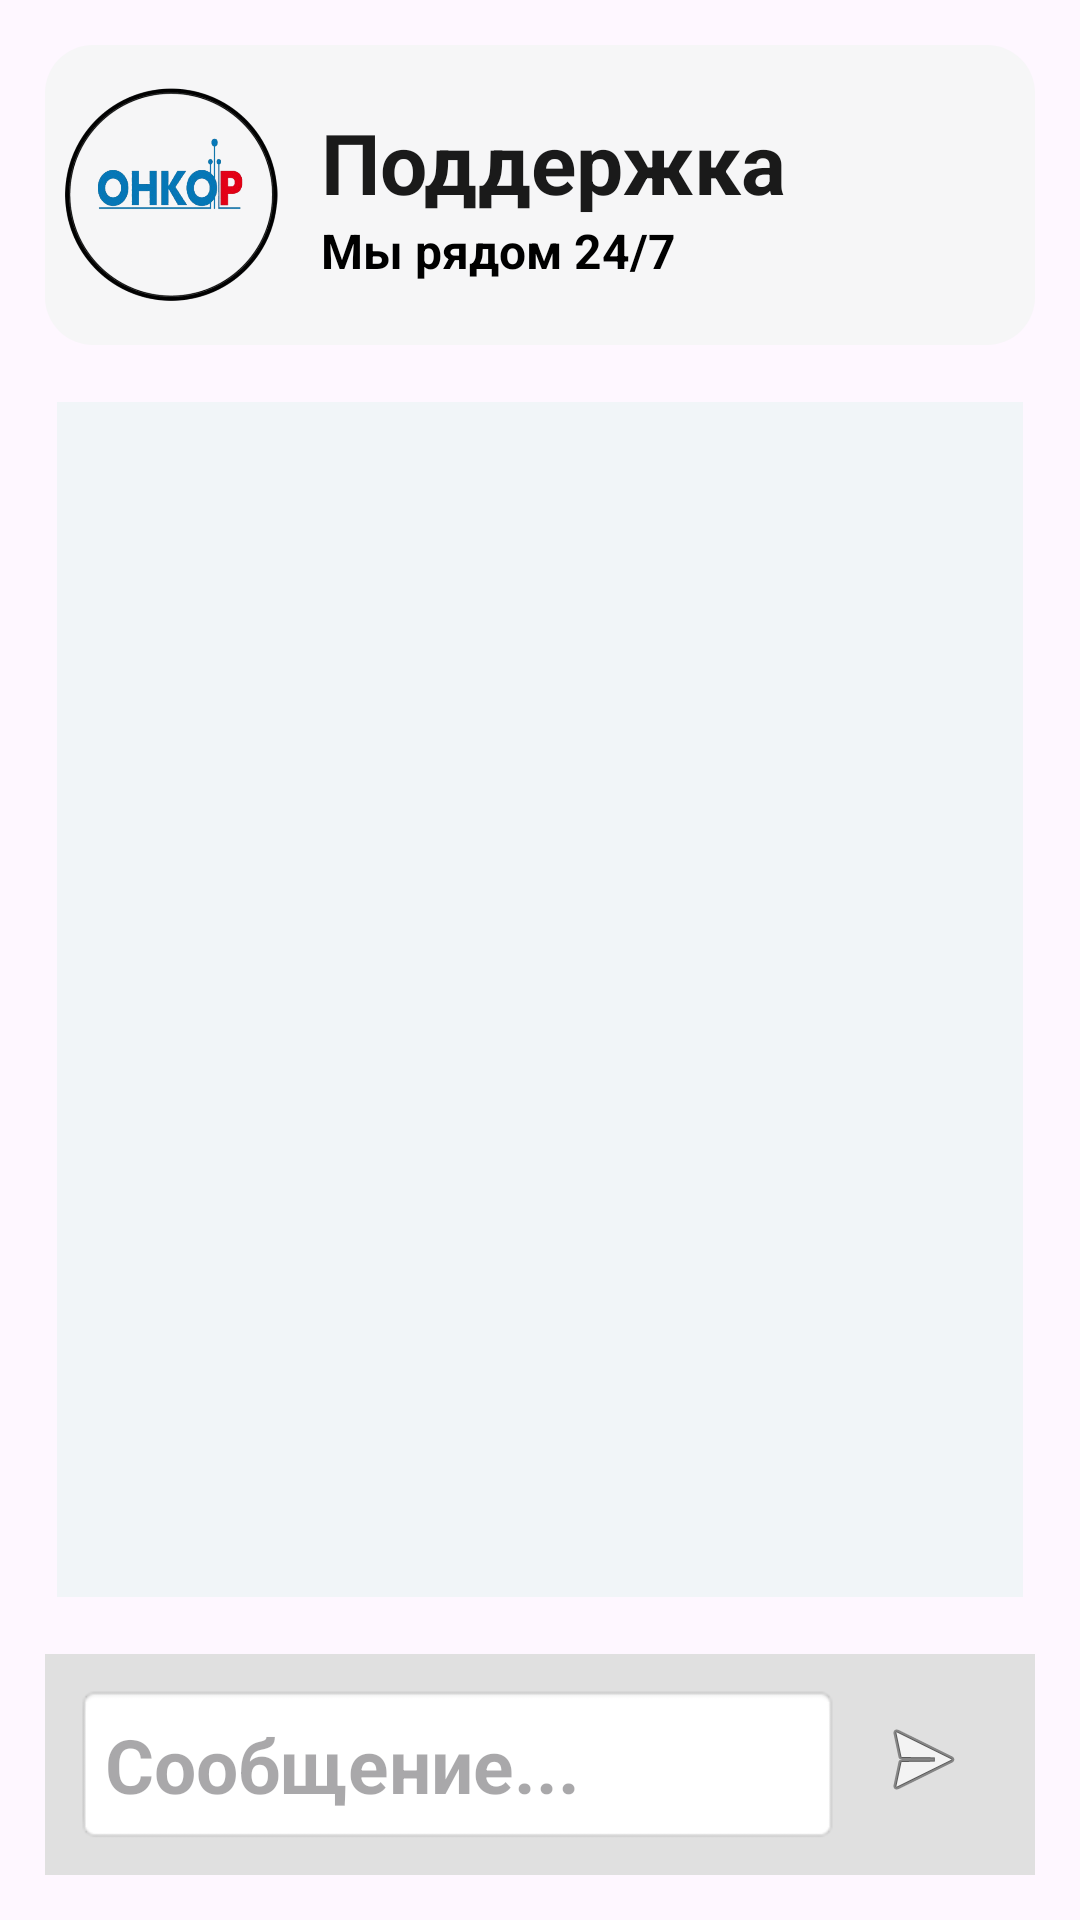

Icon bounding boxes for this 1080px x 1920px phone screenshot, format {"left": x1, "top": y1, "right": x2, "bottom": y2}:
send: {"left": 893, "top": 1729, "right": 955, "bottom": 1790}
